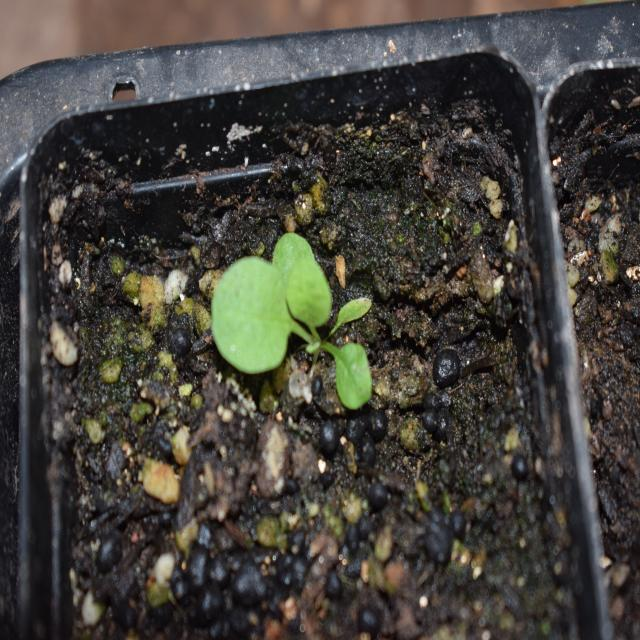Shepherd_Purse: (201, 220, 387, 423)
